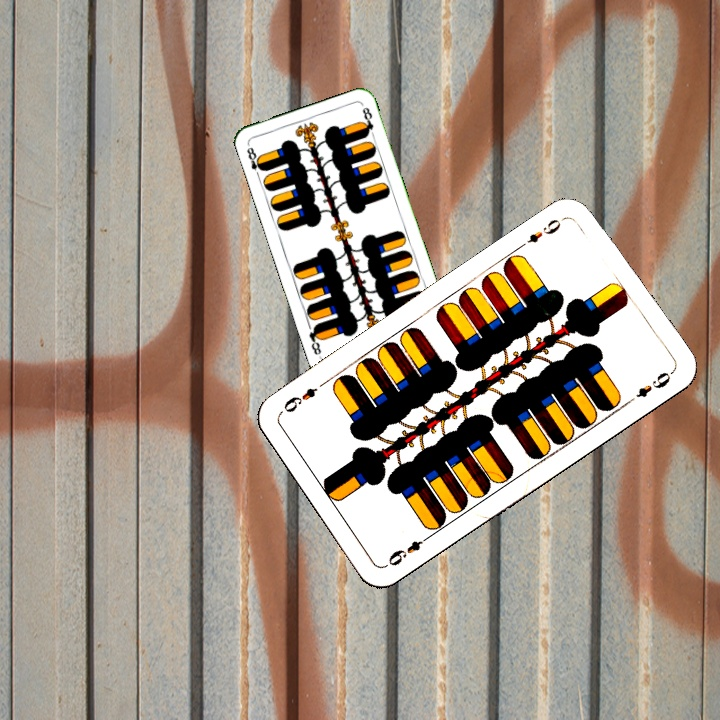E8: (242, 143, 267, 180)
E9: (382, 530, 434, 569), (517, 212, 570, 250)
